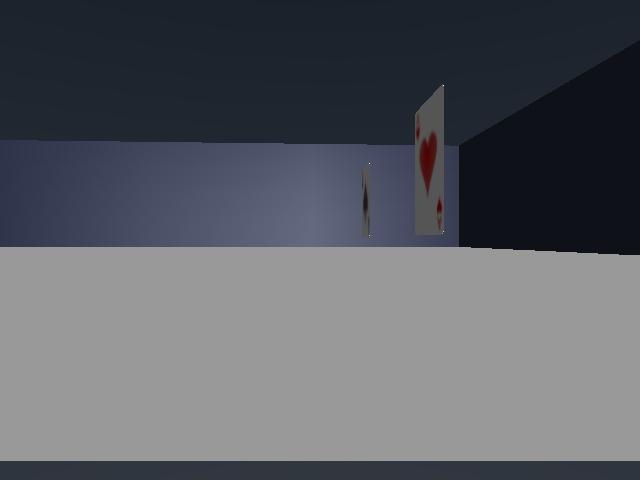club: (362, 165, 369, 236)
heart: (415, 85, 443, 234)
